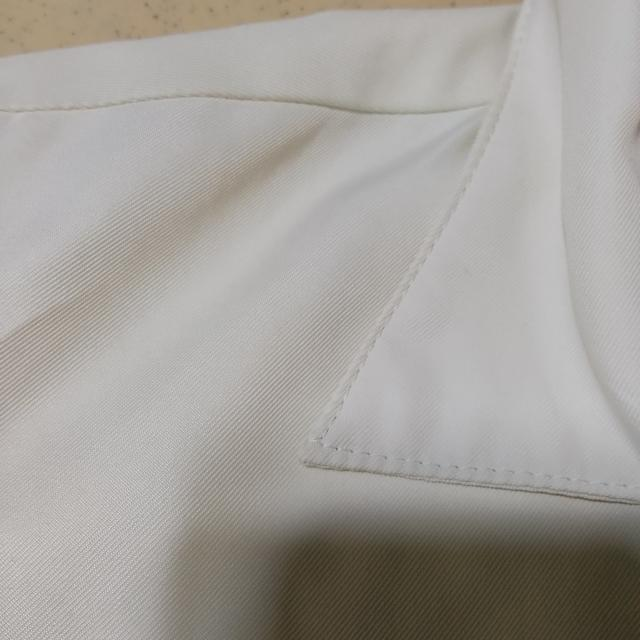education_male_uniform: (0, 15, 573, 586)
